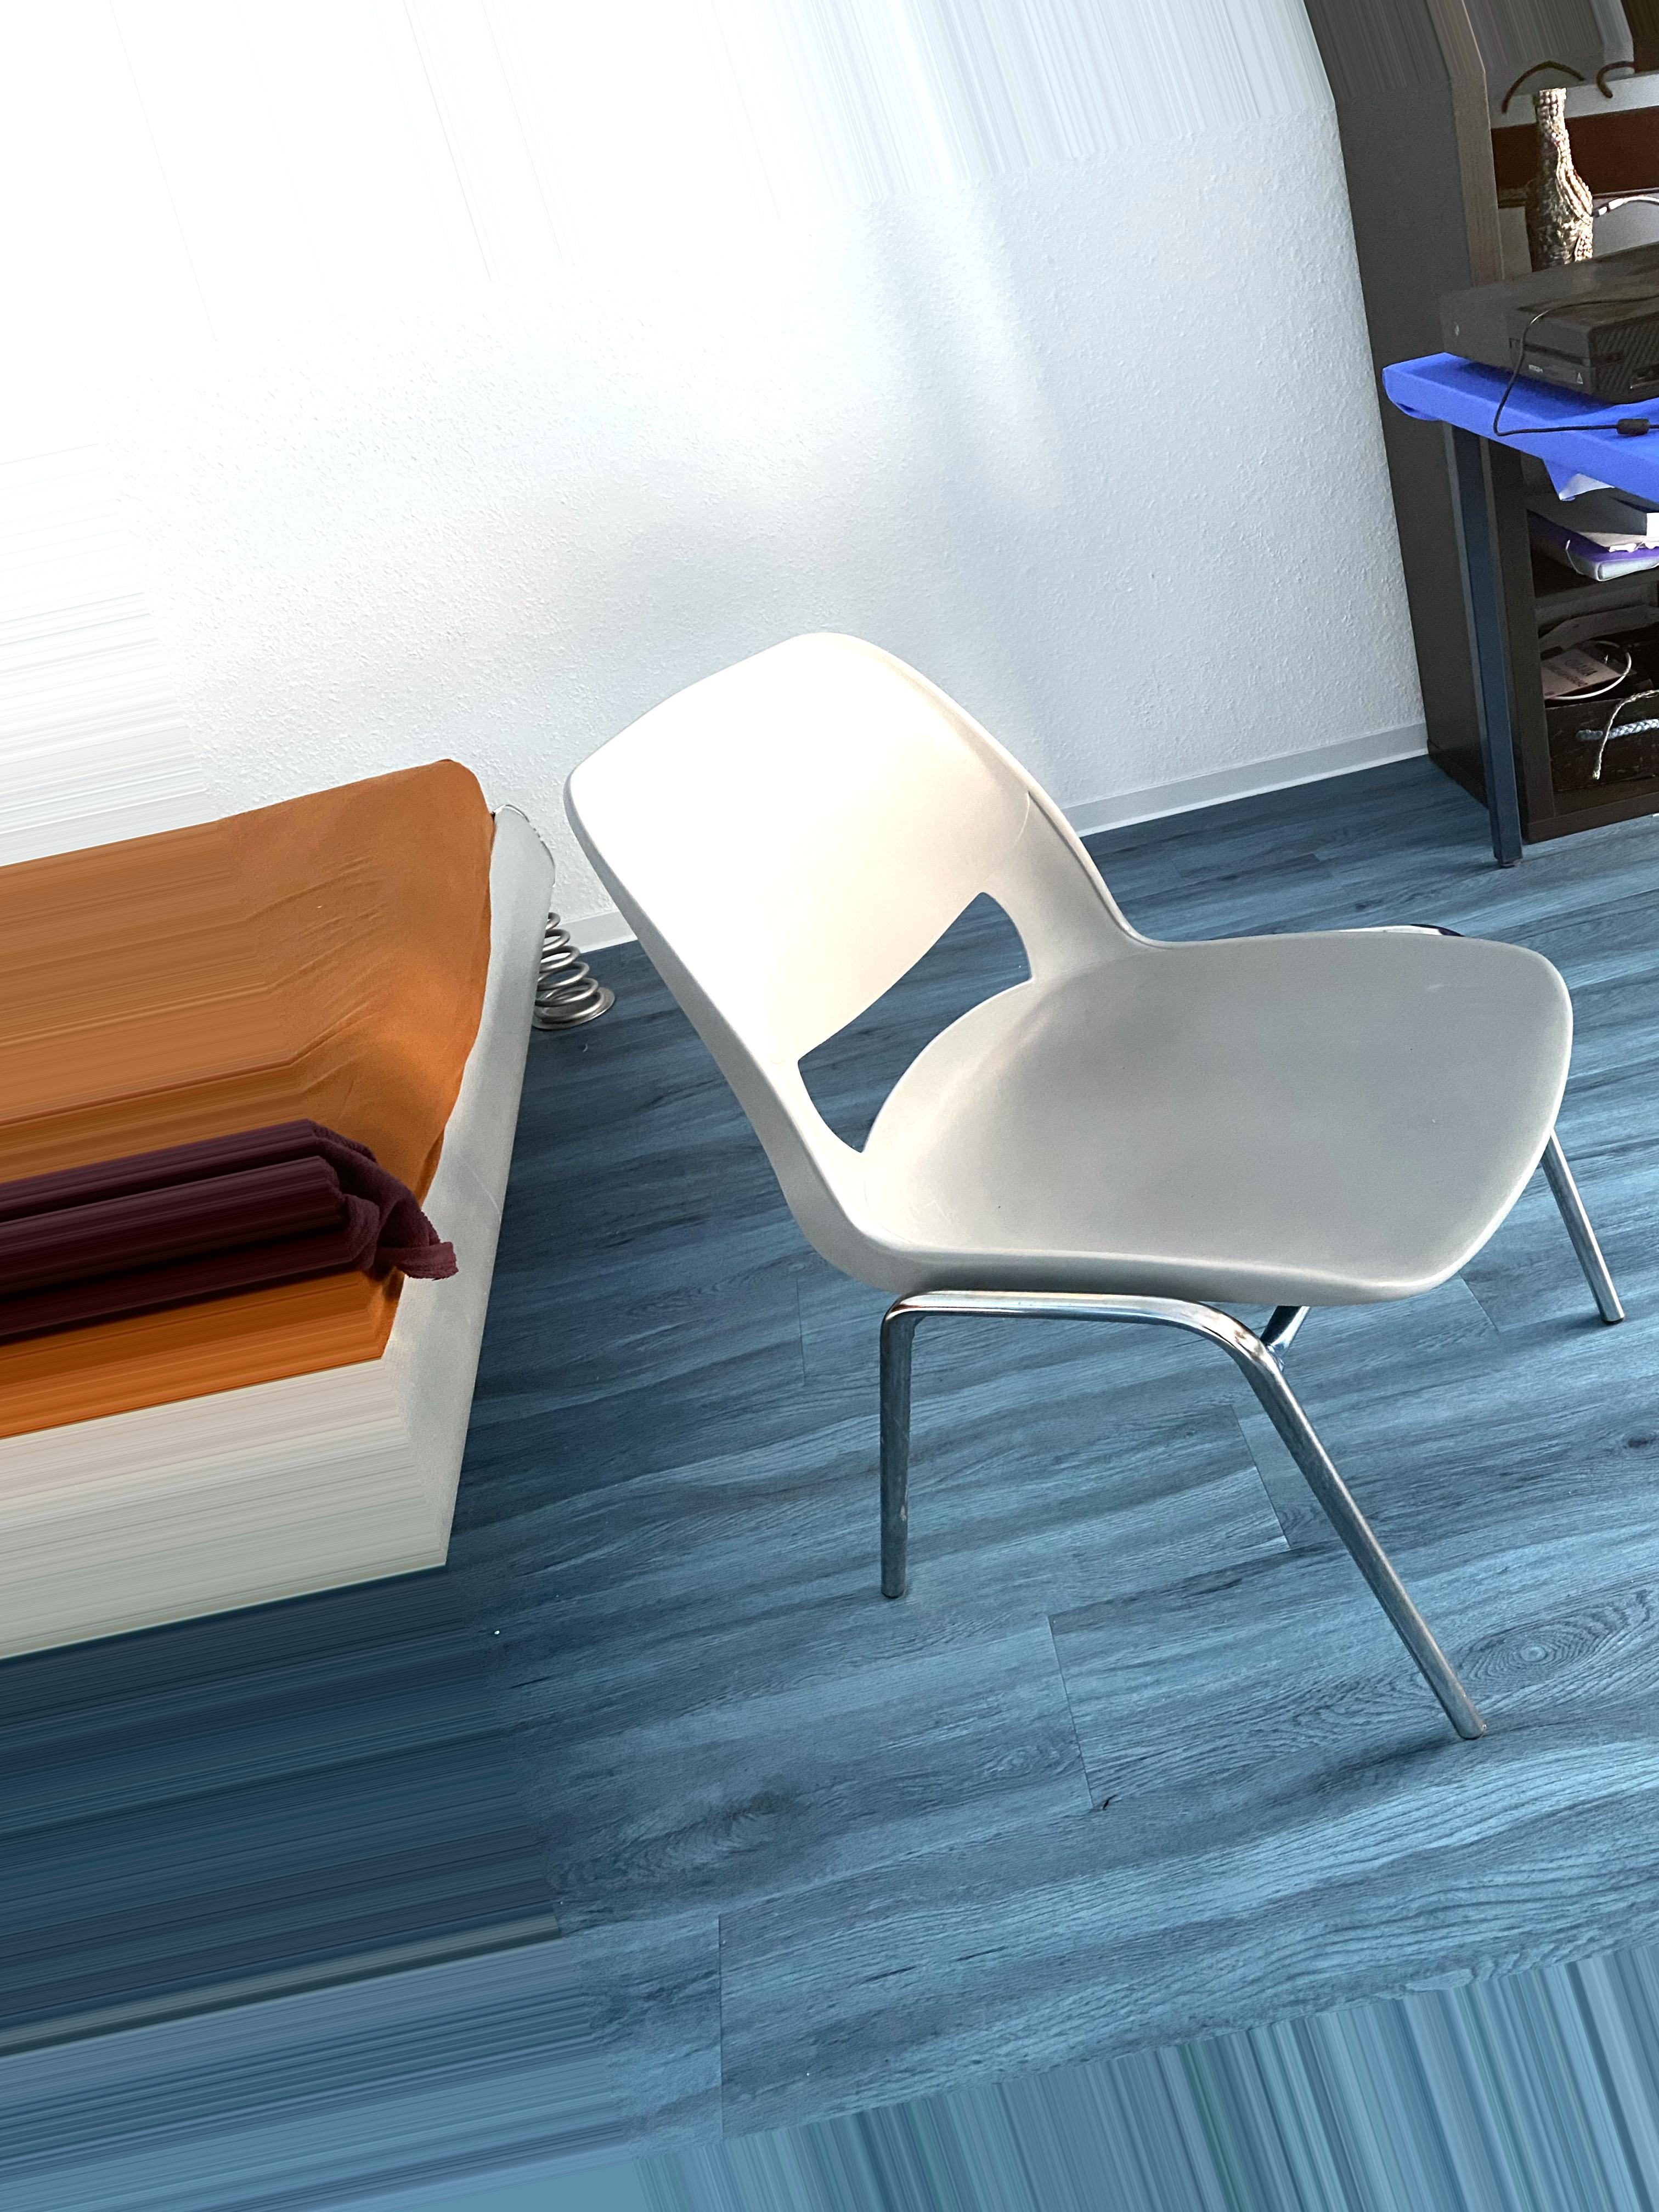chair: (561, 625, 1633, 1738)
